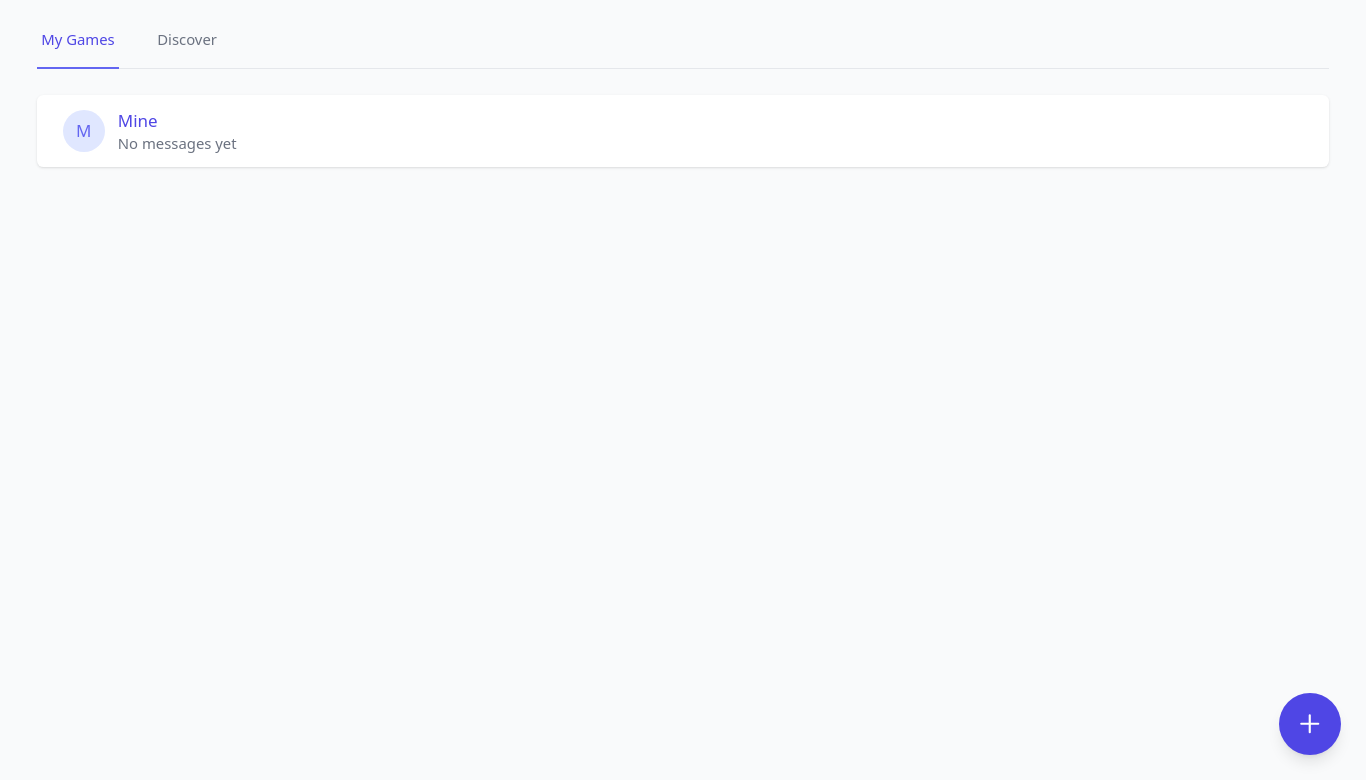
Test case: Lobby › Discover tab › shows an empty state when nothing is listed
Click the button "Discover".
click(187, 41)  # box left=153, top=12, right=221, bottom=69
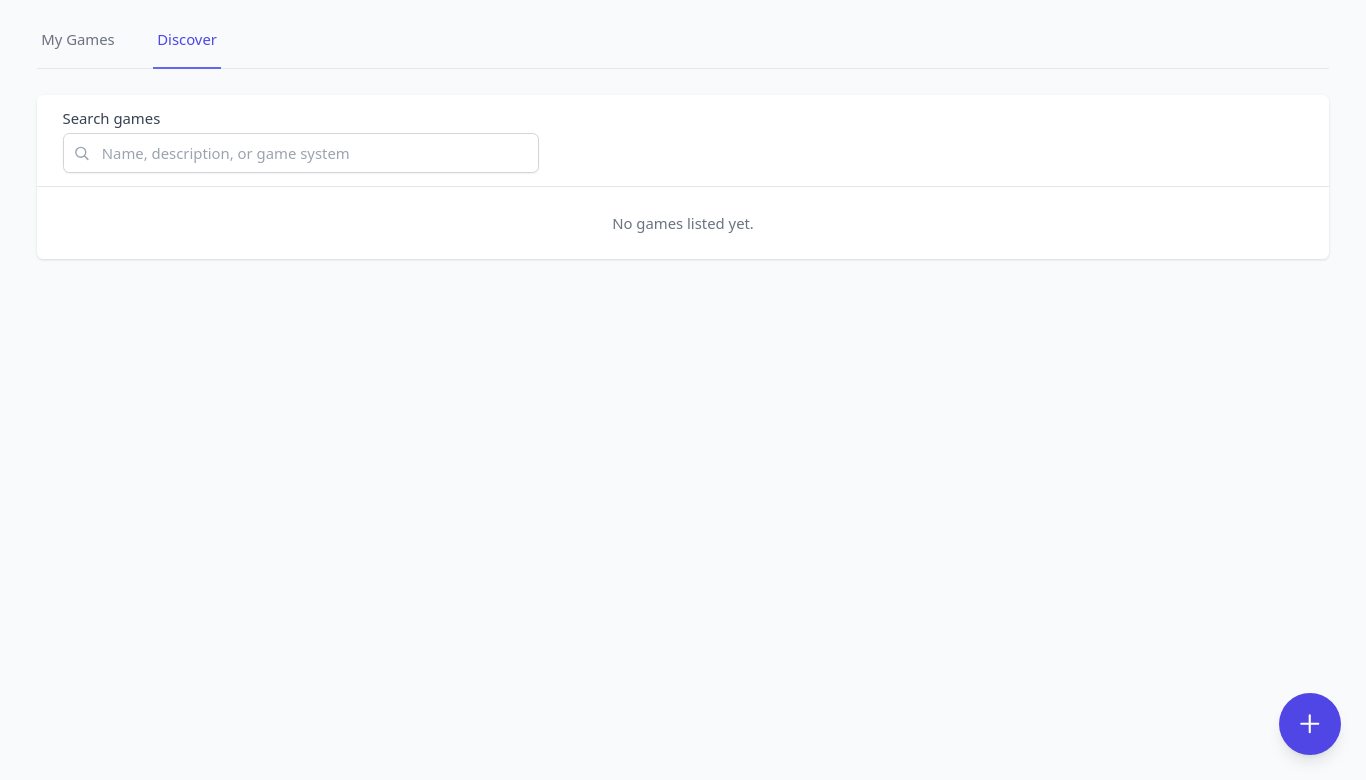
expect the text "No games listed yet." is shown: met, box left=612, top=212, right=754, bottom=232
